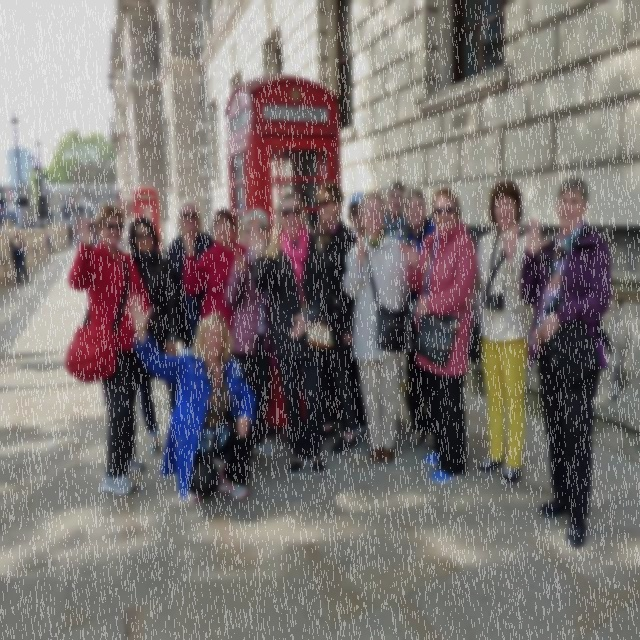pessoa: (517, 173, 616, 552), (122, 288, 260, 506), (245, 189, 334, 478), (396, 184, 481, 486), (64, 200, 148, 495), (464, 177, 539, 490), (338, 187, 416, 466), (118, 196, 180, 457), (311, 182, 361, 458), (224, 206, 277, 466), (396, 185, 436, 452), (182, 207, 247, 332), (165, 198, 215, 350), (382, 180, 409, 240), (8, 228, 32, 284), (347, 191, 365, 239), (11, 238, 27, 286), (0, 216, 19, 231), (92, 216, 99, 246), (73, 220, 81, 246), (66, 223, 73, 248), (87, 216, 96, 234)
